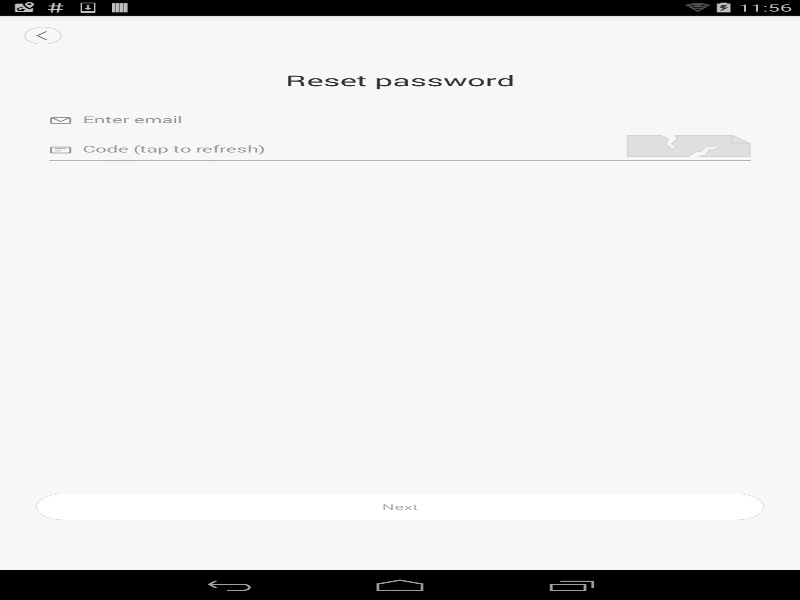Button: (36, 493, 764, 520)
Input: (82, 142, 750, 155), (82, 113, 706, 125)
